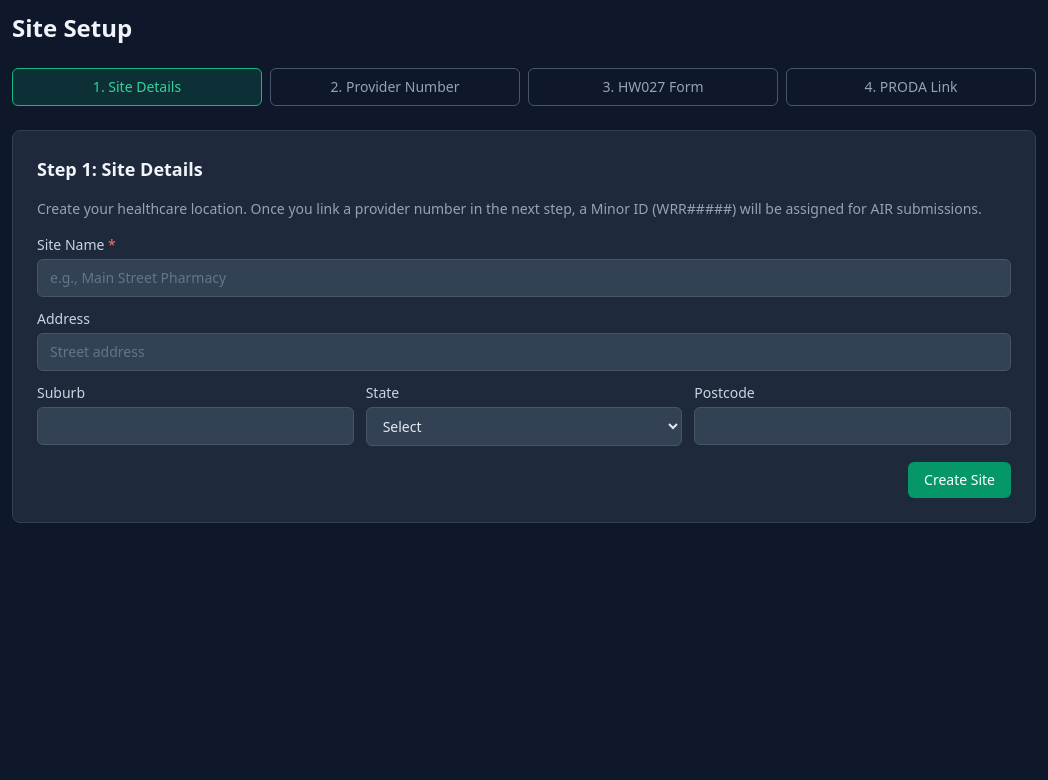
Test case: SetupWizard › validates site name is required
This screenshot has width=1048, height=780.
Click the button "Create Site" at coordinates (960, 480), box left=908, top=462, right=1011, bottom=498
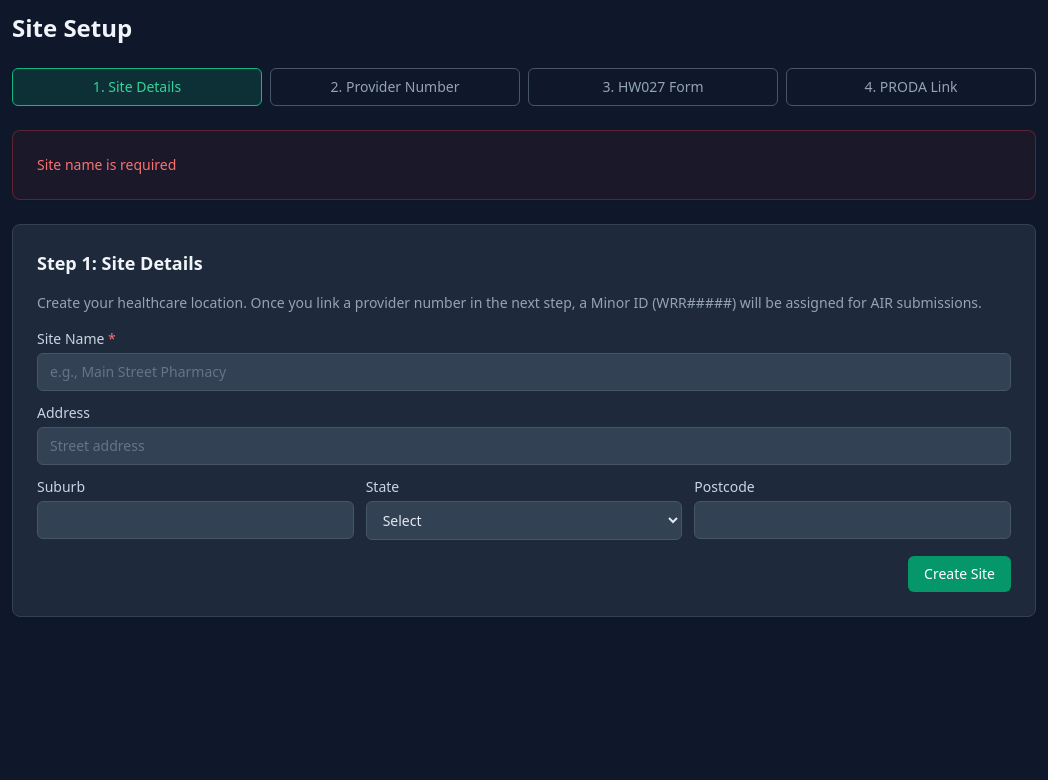
Check: the text "Site name is required" is shown, box left=37, top=155, right=176, bottom=174
